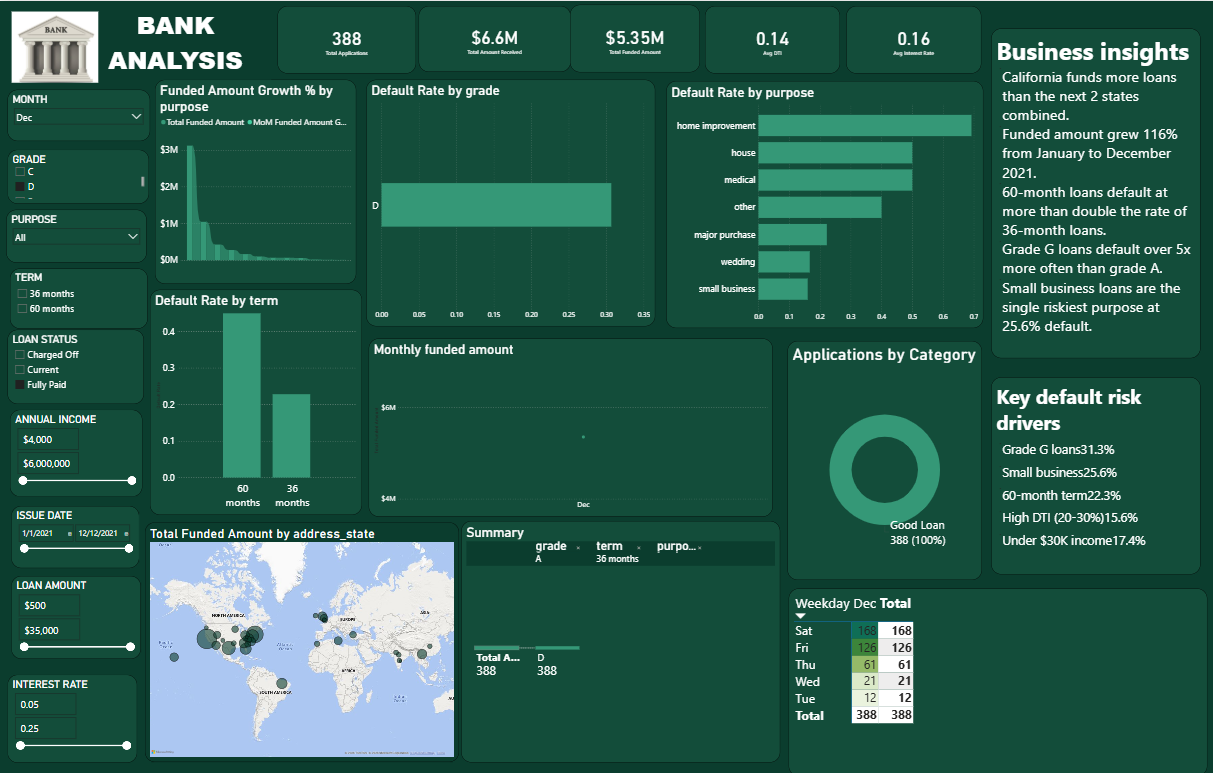

This screenshot's page, from the dashboard's own definition file:
{"tool":"powerbi","page":{"name":"Page 1","canvas":[3600,2300],"ordinal":0},"visuals":[{"type":"slicer","title":"MONTH","fields":{"Values":["DimDate.MonthName"]},"box":[24,264,422.4,152],"z":0},{"type":"card","fields":{"Values":["Table.Total Applications"]},"box":[822,14,410,200],"z":1000},{"type":"card","fields":{"Values":["Table.Total Amount Received"]},"box":[1240,15,450,195],"z":2000},{"type":"card","fields":{"Values":["Table.Avg Interest Rate"]},"box":[2507.2,16,400,200],"z":3000},{"type":"card","fields":{"Values":["Table.Total Funded Amount"]},"box":[1690,10,385,200],"z":4000},{"type":"card","fields":{"Values":["Table.Avg DTI"]},"box":[2089.6,16,400,200],"z":5000},{"type":"lineChart","title":"Monthly funded amount","fields":{"Category":["DimDate.MonthName"],"Y":["Table.Total Funded Amount"]},"box":[1091.2,1000,1196.8,528],"z":6000},{"type":"donutChart","title":"Applications by Category","fields":{"Category":["loans.loan_category"],"Y":["Table.Total Applications"]},"box":[2332,1008,576,708],"z":7000},{"type":"map","fields":{"Category":["loans.address_state"],"Size":["Table.Total Funded Amount"]},"box":[430,1545,930,710],"z":8000},{"type":"clusteredBarChart","fields":{"Category":["loans.grade"],"Y":["Table.Default Rate"]},"box":[1084,232,856,730.4],"z":9000},{"type":"clusteredBarChart","fields":{"Category":["loans.purpose"],"Y":["Table.Default Rate"]},"box":[1972.8,236,939.2,732],"z":10000},{"type":"clusteredColumnChart","fields":{"Y":["Table.Default Rate"],"Category":["loans.term"]},"box":[444,856.8,628,667.2],"z":11000},{"type":"slicer","title":"GRADE","fields":{"Values":["loans.grade"]},"box":[24,440,419.2,160],"z":12000},{"type":"slicer","title":"PURPOSE","fields":{"Values":["loans.purpose"]},"box":[20,620,416,156.8],"z":13000},{"type":"slicer","title":"TERM","fields":{"Values":["loans.term"]},"box":[28,793.6,408,178.4],"z":14000},{"type":"slicer","title":"ISSUE DATE","fields":{"Values":["loans.issue_date"]},"box":[32,1496,379.2,184],"z":15000},{"type":"slicer","title":"LOAN AMOUNT","fields":{"Values":["loans.loan_amount"]},"box":[32,1702.4,384,245.6],"z":16000},{"type":"slicer","title":"INTEREST RATE","fields":{"Values":["loans.int_rate"]},"box":[24,1995.2,384,260.8],"z":17000},{"type":"slicer","title":"LOAN STATUS","fields":{"Values":["loans.loan_status"]},"box":[21.6,975.2,404,220],"z":18000},{"type":"slicer","title":"ANNUAL INCOME","fields":{"Values":["loans.annual_income"]},"box":[28,1210.4,392,257.6],"z":19000},{"type":"decompositionTreeVisual","title":"Summary","fields":{"ExplainBy":["loans.grade","loans.term","loans.purpose"],"Analyze":["Table.Total Applications"]},"box":[1365,1540,945,715],"z":19002},{"type":"pivotTable","fields":{"Rows":["loans.Weekday"],"Columns":["loans.issue_month_name"],"Values":["Table.Total Applications"]},"box":[2336,1740.8,1240,556],"z":19003},{"type":"textbox","box":[2936,80,620,976.8],"z":19004},{"type":"textbox","box":[2935.2,1115.2,620,584],"z":19005},{"type":"ribbonChart","title":" Funded Amount Growth % by purpose","fields":{"Category":["loans.purpose"],"Y":["Table.Total Funded Amount","Table.MoM Funded Amount Growth %"]},"box":[460,232,596,604.8],"z":19006},{"type":"textbox","box":[237,14.8,566.7,218.5],"z":19007},{"type":"image","box":[29.6,0,266.7,274.1],"z":19008}]}

Visuals, with their boxes in screenshot pixels (x1, y1, x2, y2), scaled from the page's 3600x2300 canvas onto the 1213x773 screenshot:
"MONTH" slicer: bbox=(8, 89, 150, 140)
card - Table.Total Applications: bbox=(277, 5, 415, 72)
card - Table.Total Amount Received: bbox=(418, 5, 569, 71)
card - Table.Avg Interest Rate: bbox=(845, 5, 980, 73)
card - Table.Total Funded Amount: bbox=(569, 3, 699, 71)
card - Table.Avg DTI: bbox=(704, 5, 839, 73)
"Monthly funded amount" lineChart: bbox=(368, 336, 771, 514)
"Applications by Category" donutChart: bbox=(786, 339, 980, 577)
map - loans.address_state x Table.Total Funded Amount: bbox=(145, 519, 458, 758)
clusteredBarChart - loans.grade x Table.Default Rate: bbox=(365, 78, 654, 323)
clusteredBarChart - loans.purpose x Table.Default Rate: bbox=(665, 79, 981, 325)
clusteredColumnChart - Table.Default Rate x loans.term: bbox=(150, 288, 361, 512)
"GRADE" slicer: bbox=(8, 148, 149, 202)
"PURPOSE" slicer: bbox=(7, 208, 147, 261)
"TERM" slicer: bbox=(9, 267, 147, 327)
"ISSUE DATE" slicer: bbox=(11, 503, 139, 565)
"LOAN AMOUNT" slicer: bbox=(11, 572, 140, 655)
"INTEREST RATE" slicer: bbox=(8, 671, 137, 758)
"LOAN STATUS" slicer: bbox=(7, 328, 143, 402)
"ANNUAL INCOME" slicer: bbox=(9, 407, 142, 493)
"Summary" decompositionTreeVisual: bbox=(460, 518, 778, 758)
pivotTable - loans.Weekday x loans.issue_month_name: bbox=(787, 585, 1205, 772)
textbox: bbox=(989, 27, 1198, 355)
textbox: bbox=(989, 375, 1198, 571)
" Funded Amount Growth % by purpose" ribbonChart: bbox=(155, 78, 356, 281)
textbox: bbox=(80, 5, 271, 78)
image: bbox=(10, 0, 100, 92)
